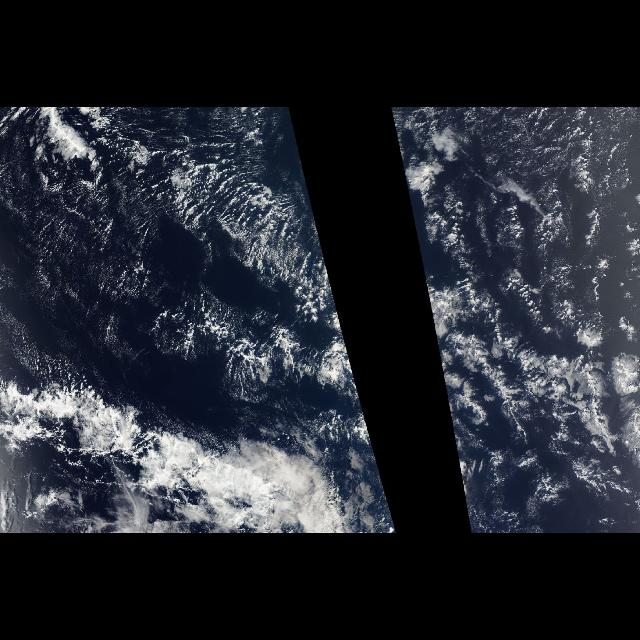Fish: (1, 351, 320, 533), (458, 280, 632, 476)
Sugar: (4, 186, 356, 422)
